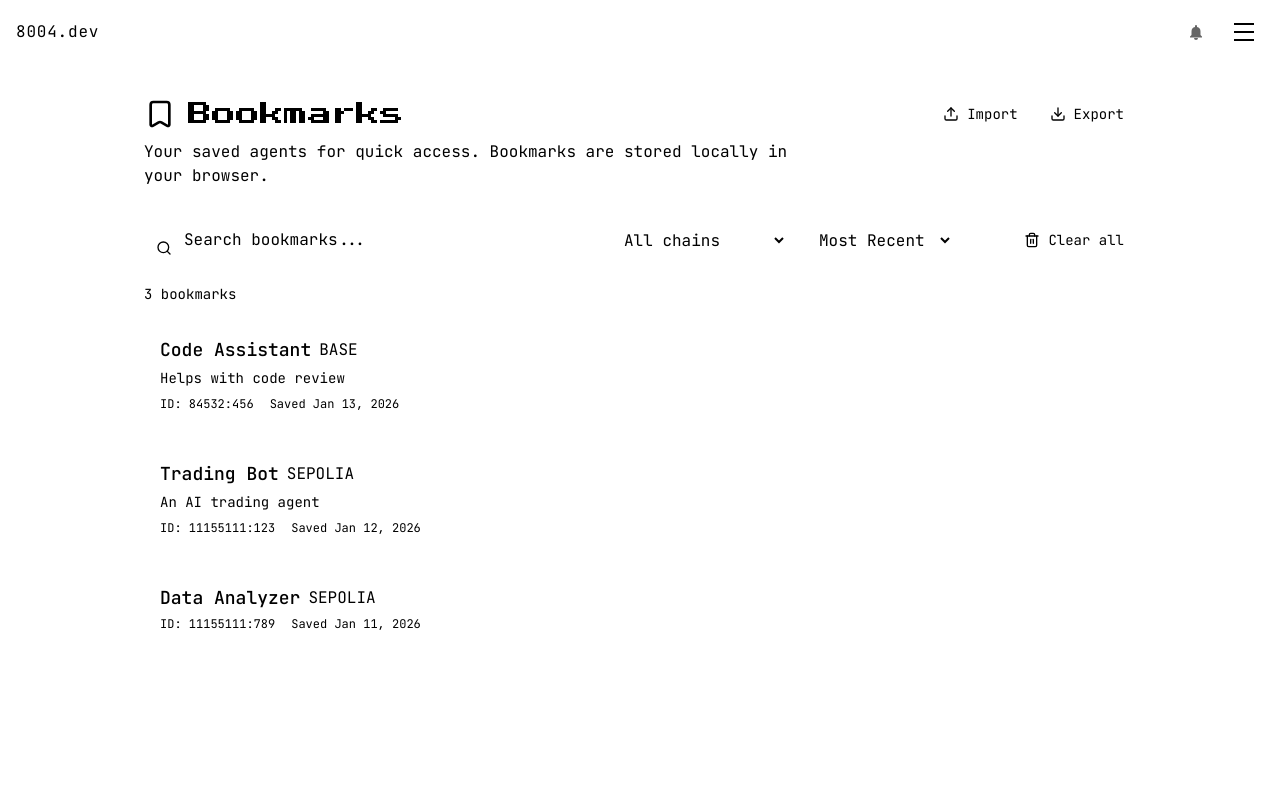
Test case: BookmarksPage › filters bookmarks by chain
Select "Chain 11155111" in the dropdown with test id "chain-filter". click: (698, 240)
box: [608,220,787,260]
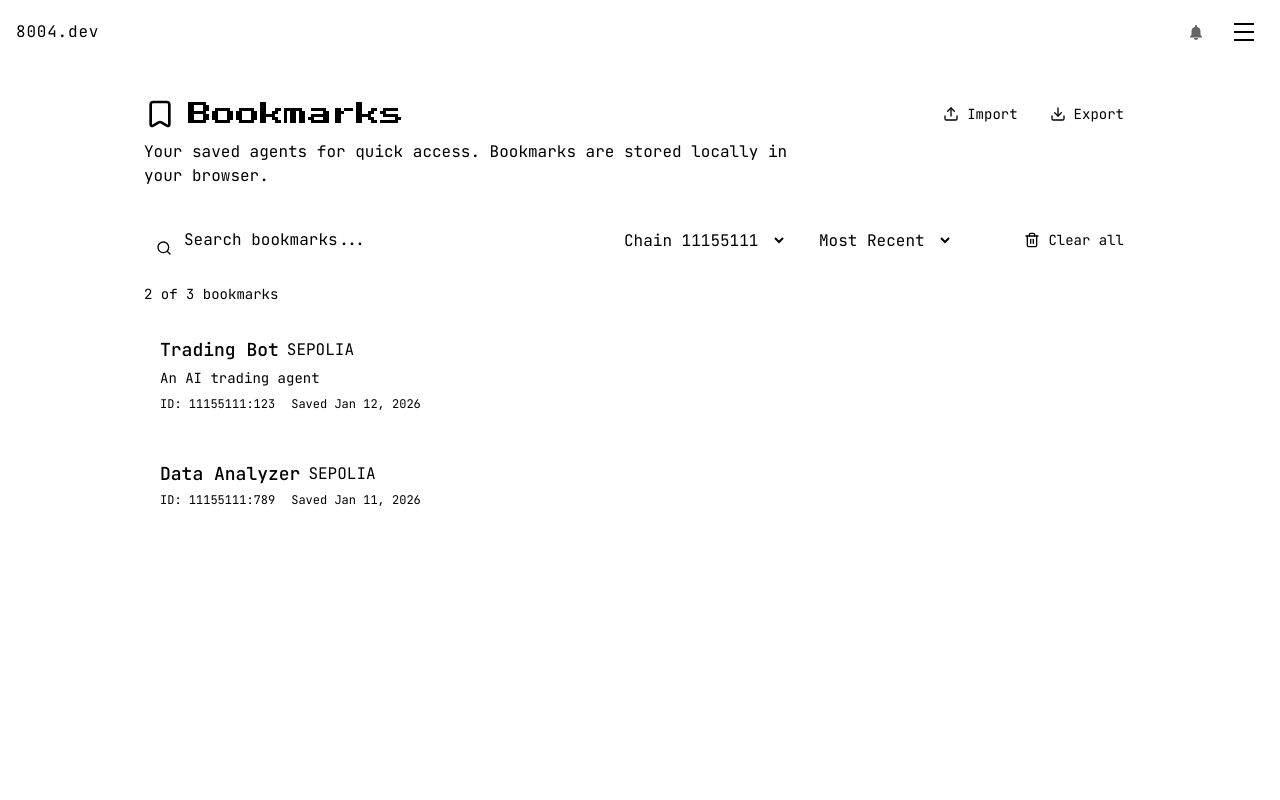
Check: the heading "Trading Bot" is shown, box [160,336,279,364]
Check: the link "Code Assistant" is gone
